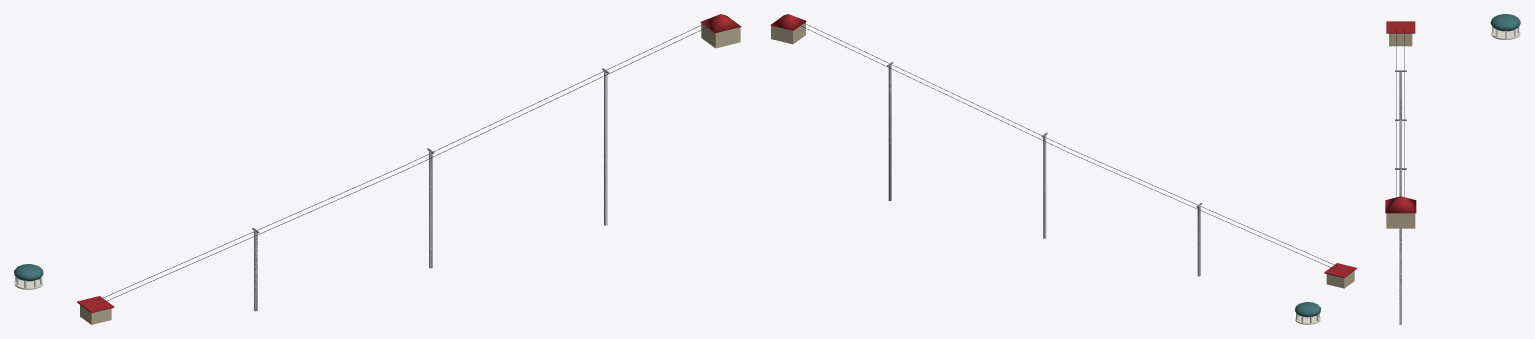
Rendered from theme-resort-2.glb.
The picture shows the model from 3 angles, left to right: view 1: azimuth 30°, elevation 25°; view 2: azimuth 150°, elevation 25°; view 3: azimuth 270°, elevation 25°; orthographic projection. The views are drawn at different scales.
Parts seen in each view (by area): view 1: 04_#16161a_noshadow, 00_#c8bca0, 02_#8a8e90, solid.002; view 2: 04_#16161a_noshadow, 00_#c8bca0, 02_#8a8e90; view 3: 00_#c8bca0, 01_#a3262c, 07_#3f6f73, 05_#a3262c_noshadow, solid.002, 04_#16161a_noshadow, 02_#8a8e90, 06_#e8e4d8, solid.001, solid.
Part boxes in pixels (x1,y1,x2,y2): 04_#16161a_noshadow: (99,24,707,302); 00_#c8bca0: (80,23,740,324); 02_#8a8e90: (254,71,605,310); solid.002: (604,71,607,225); 04_#16161a_noshadow: (800,22,1337,269); 00_#c8bca0: (771,22,1354,288); 02_#8a8e90: (888,64,1199,276); 00_#c8bca0: (1386,33,1415,228); 01_#a3262c: (1385,196,1416,213); 07_#3f6f73: (1490,14,1520,31); 05_#a3262c_noshadow: (1386,21,1415,33); solid.002: (1399,169,1401,324); 04_#16161a_noshadow: (1396,28,1404,196); 02_#8a8e90: (1399,72,1401,324); 06_#e8e4d8: (1491,29,1520,39); solid.001: (1399,120,1401,167); solid: (1399,71,1401,119).
Size of the model in its own units: 266 by 70 by 46.42.
